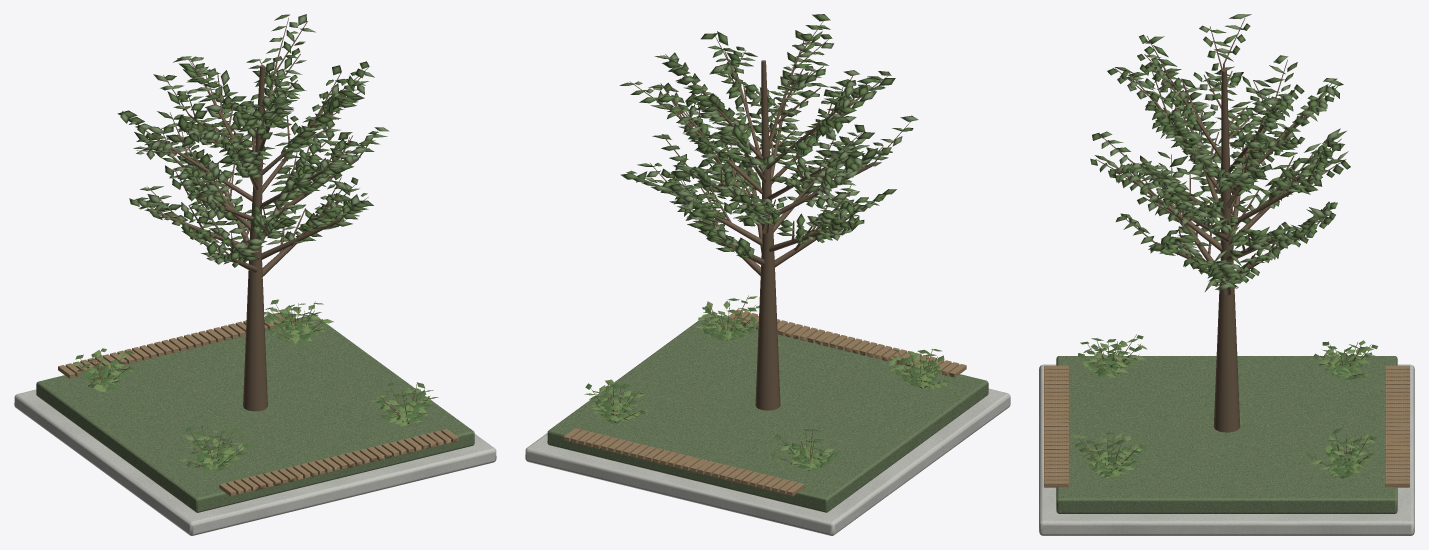
Rendered from landscaped-planter.glb.
3 renders of one model, left to right at view 1: azimuth 30°, elevation 25°; view 2: azimuth 150°, elevation 25°; view 3: azimuth 270°, elevation 25°, orthographic. The views are drawn at different scales.
Parts seen in each view (by area): view 1: landscaped-planter_turf, landscaped-planter_light-precast-concrete, landscaped-planter_living-tree-bark, landscaped-planter_foliage-shade, landscaped-planter_foliage-sage, landscaped-planter_foliage-olive, landscaped-planter_wood-deck, landscaped-planter_shrub-green, landscaped-planter_shrub-young-leaf, landscaped-planter_shrub-stem; view 2: landscaped-planter_turf, landscaped-planter_light-precast-concrete, landscaped-planter_living-tree-bark, landscaped-planter_foliage-shade, landscaped-planter_foliage-olive, landscaped-planter_foliage-sage, landscaped-planter_wood-deck, landscaped-planter_shrub-young-leaf, landscaped-planter_shrub-green, landscaped-planter_shrub-stem; view 3: landscaped-planter_turf, landscaped-planter_living-tree-bark, landscaped-planter_light-precast-concrete, landscaped-planter_foliage-shade, landscaped-planter_foliage-olive, landscaped-planter_foliage-sage, landscaped-planter_wood-deck, landscaped-planter_shrub-green, landscaped-planter_shrub-young-leaf, landscaped-planter_shrub-stem.
Boxes of the visible parts, x1,y1,x2,y2 form: landscaped-planter_turf: [36, 316, 474, 512]; landscaped-planter_light-precast-concrete: [14, 389, 496, 535]; landscaped-planter_living-tree-bark: [128, 18, 377, 411]; landscaped-planter_foliage-shade: [117, 14, 379, 267]; landscaped-planter_foliage-sage: [120, 14, 389, 264]; landscaped-planter_foliage-olive: [129, 30, 387, 261]; landscaped-planter_wood-deck: [58, 312, 458, 496]; landscaped-planter_shrub-green: [75, 299, 438, 473]; landscaped-planter_shrub-young-leaf: [71, 303, 433, 471]; landscaped-planter_shrub-stem: [79, 301, 429, 468]; landscaped-planter_turf: [547, 313, 988, 512]; landscaped-planter_light-precast-concrete: [525, 388, 1010, 535]; landscaped-planter_living-tree-bark: [629, 19, 911, 410]; landscaped-planter_foliage-shade: [619, 33, 913, 257]; landscaped-planter_foliage-olive: [620, 14, 891, 258]; landscaped-planter_foliage-sage: [635, 41, 918, 253]; landscaped-planter_wood-deck: [563, 309, 966, 496]; landscaped-planter_shrub-young-leaf: [584, 296, 946, 470]; landscaped-planter_shrub-green: [585, 298, 950, 469]; landscaped-planter_shrub-stem: [590, 295, 944, 470]; landscaped-planter_turf: [1056, 356, 1397, 513]; landscaped-planter_living-tree-bark: [1095, 18, 1346, 432]; landscaped-planter_light-precast-concrete: [1039, 364, 1414, 535]; landscaped-planter_foliage-shade: [1090, 23, 1350, 287]; landscaped-planter_foliage-olive: [1116, 29, 1343, 287]; landscaped-planter_foliage-sage: [1100, 14, 1348, 291]; landscaped-planter_wood-deck: [1044, 365, 1409, 487]; landscaped-planter_shrub-green: [1075, 335, 1377, 478]; landscaped-planter_shrub-young-leaf: [1070, 338, 1376, 478]; landscaped-planter_shrub-stem: [1077, 334, 1371, 477].
Size of the model in its own units: 5.4 by 6.56 by 5.4.
Materials: 6 (6 with a texture image).
